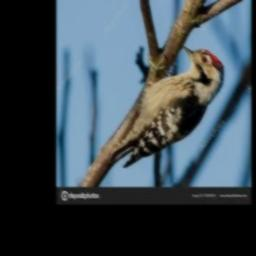Woodpecker: (110, 46, 224, 168)
